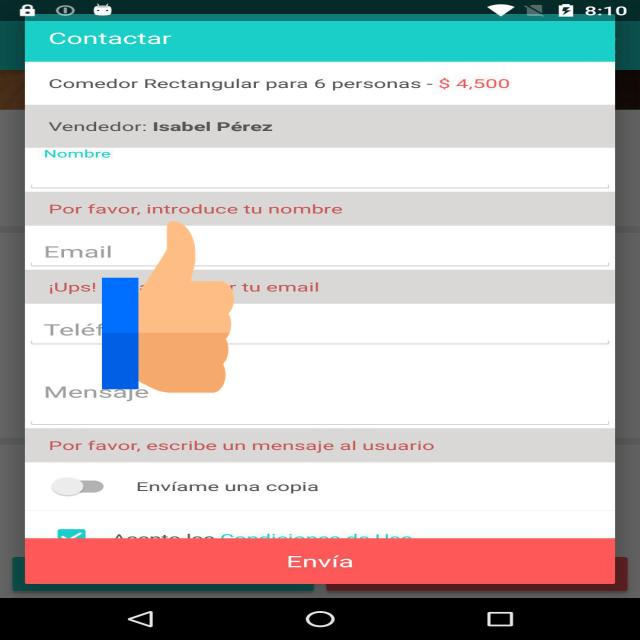privacy zuckering: (102, 217, 234, 397)
